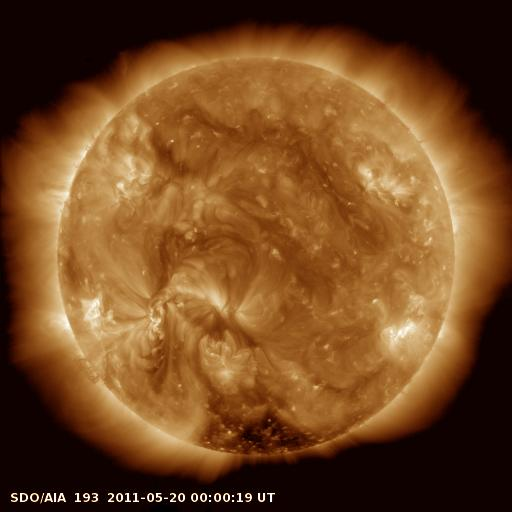coronal_hole: (192, 388, 328, 456)
